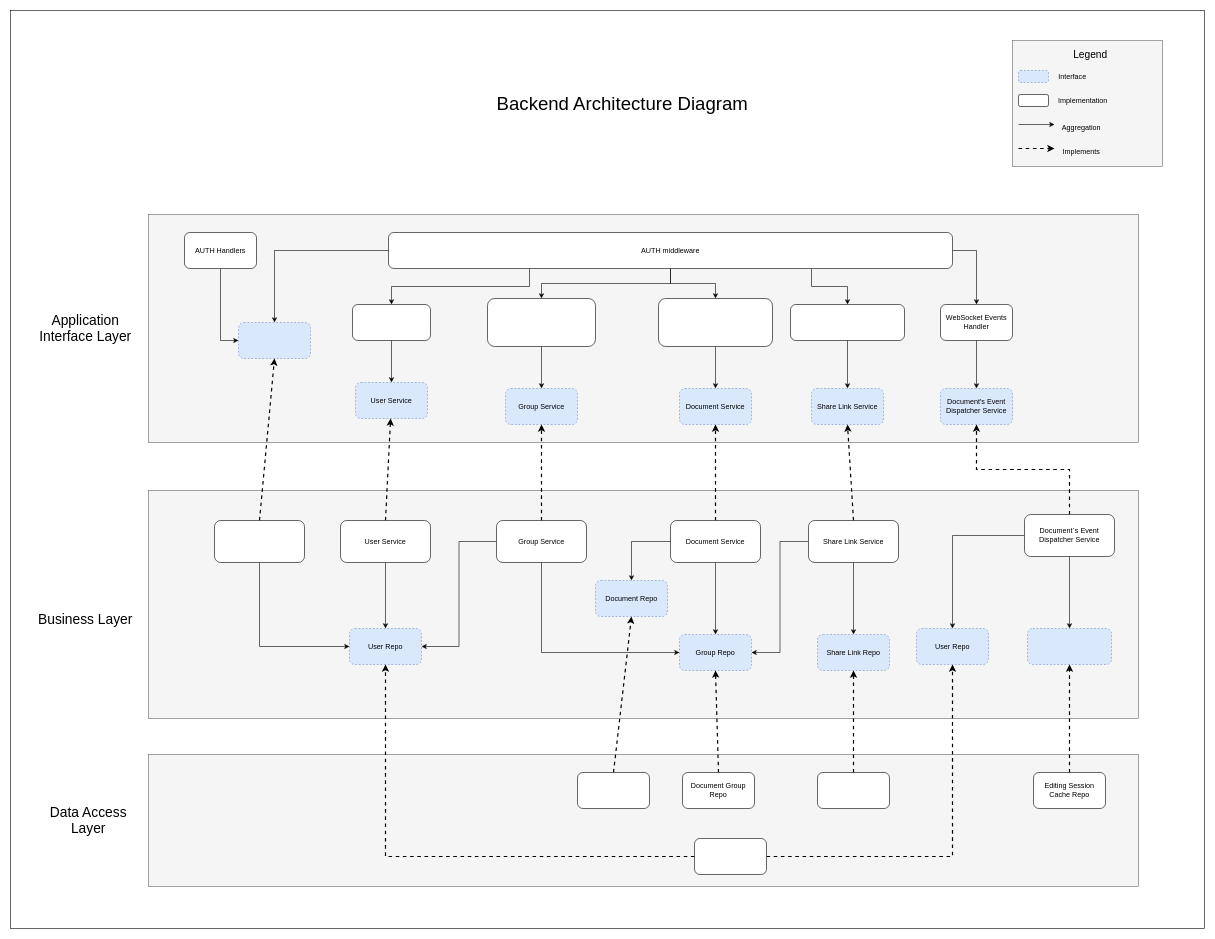
This 1215x939 diagram has some shape labels left out. Each missing label, with the centre of its shape:
"AUTH Serive" belongs at pixel 259 541.
"AUTH Service" belongs at pixel 274 340.
"Document DB Repo" belongs at pixel 613 790.
"Document handlers (CRUD)" belongs at pixel 715 322.
"Editing Session Repo" belongs at pixel 1069 646.
"Group handlers (CRUD + add user/delete user)" belongs at pixel 541 322.
"Share Link DB Repo" belongs at pixel 853 790.
"Share Link handlers (CRUD)" belongs at pixel 847 322.
"User DB Repo" belongs at pixel 730 856.
"User setting handlers (CRUDs)" belongs at pixel 391 322.
